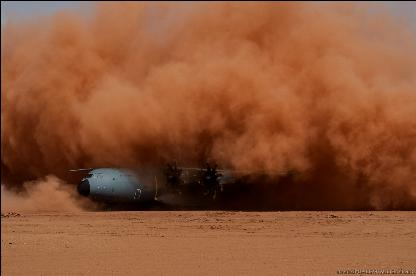A400M: (67, 158, 300, 210)
